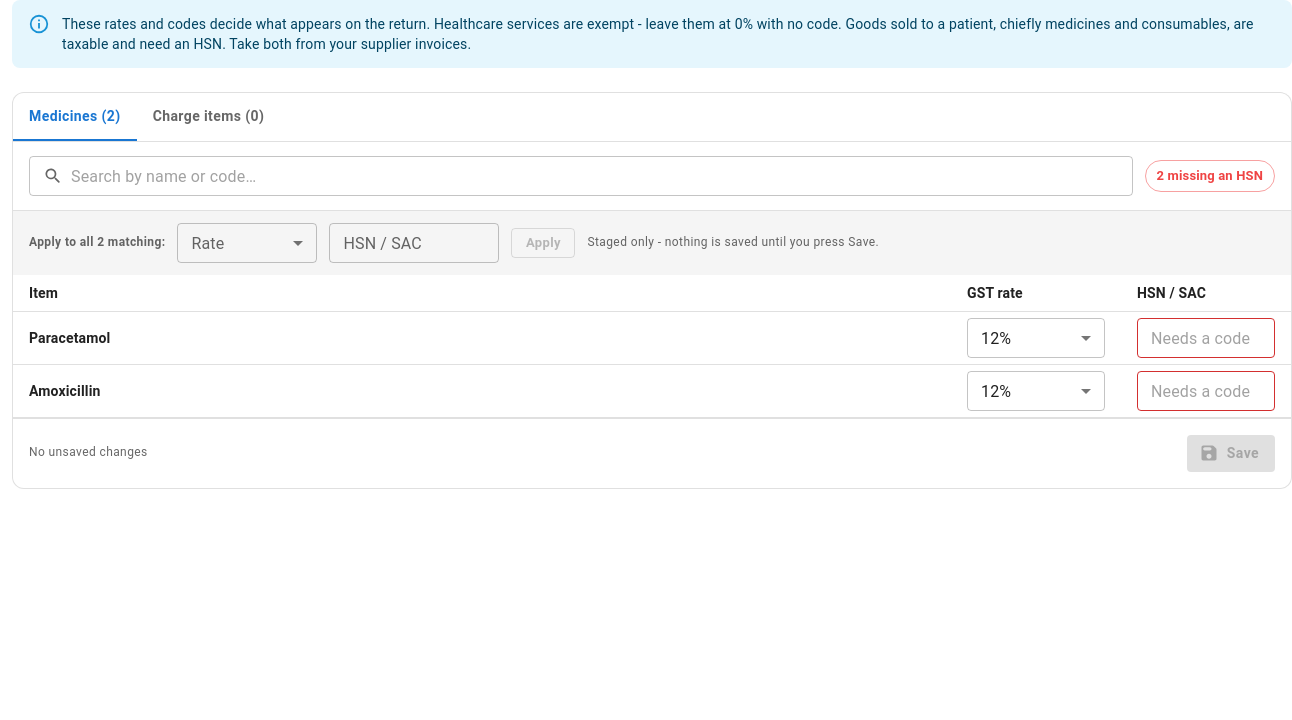
Test: GstSetup readiness chip › counts down as codes are typed, before any save
The image size is (1292, 720).
Type "3004" into the field with placeholder "Needs a code" in the row of "Paracetamol" at (1206, 338), box [1137,318,1275,358]
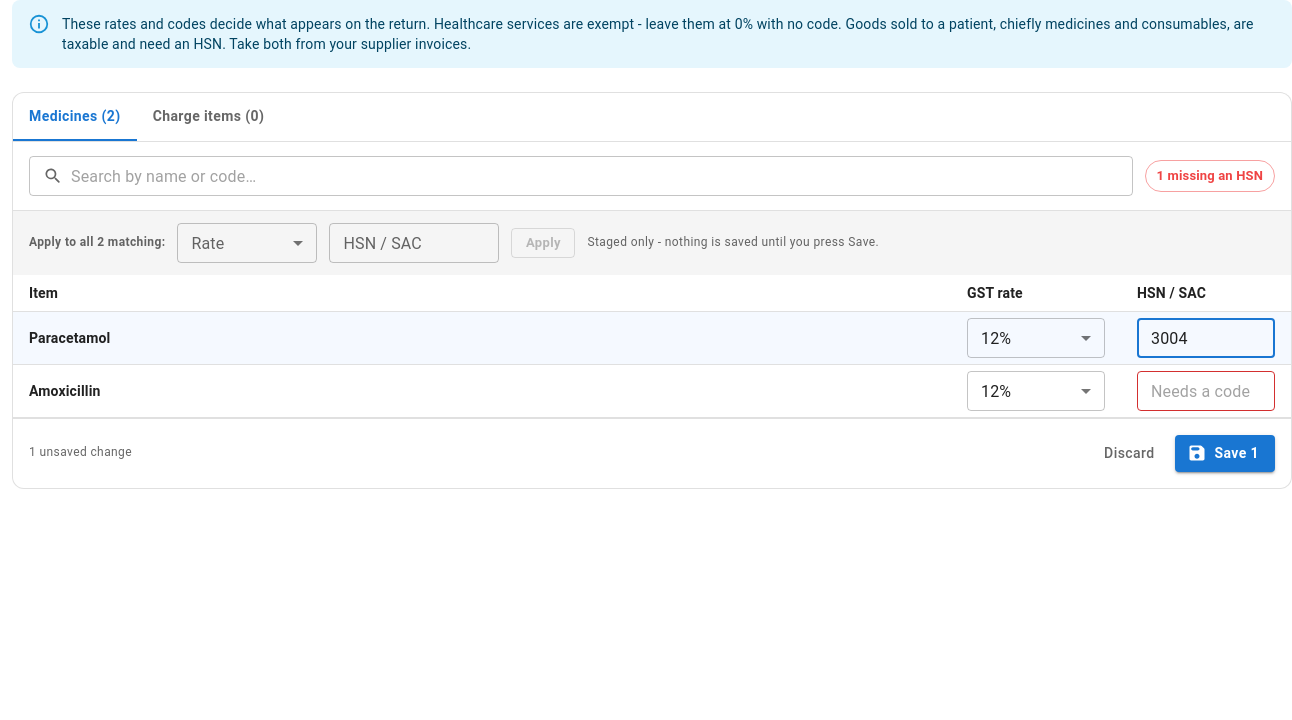
Now the text "1 missing an HSN" is shown, box [1157,168,1263,183]
